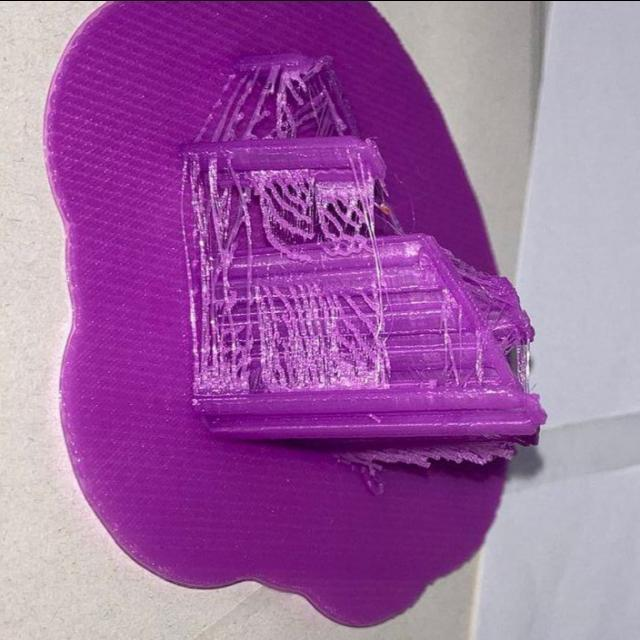Stringing: (251, 173, 374, 258), (262, 297, 376, 381), (188, 294, 258, 398), (185, 158, 248, 264), (208, 70, 296, 134)
